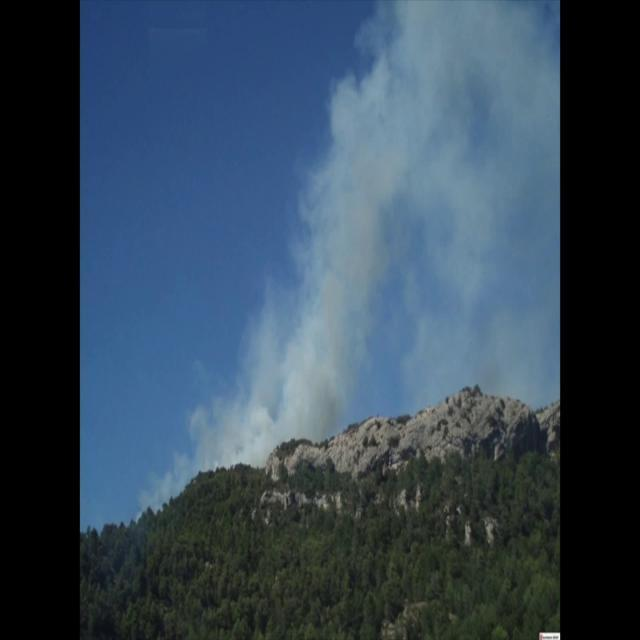Smoke: (250, 1, 559, 442)
